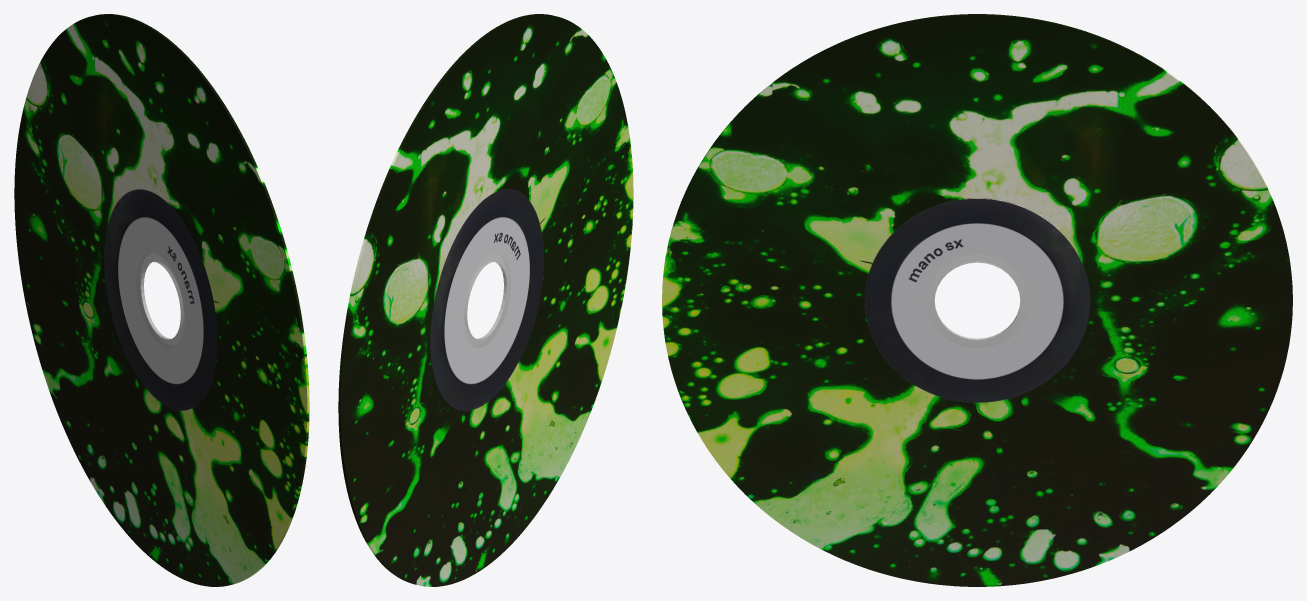
Rendered from CD_Manosx.glb.
3 renders of one model, left to right at view 1: azimuth 30°, elevation 25°; view 2: azimuth 150°, elevation 25°; view 3: azimuth 270°, elevation 25°, orthographic. The views are drawn at different scales.
Visible parts, largest first — view 1: CD; view 2: CD; view 3: CD.
Part boxes in pixels (left/top/right/bottom): CD: left=14, top=14, right=309, bottom=586; CD: left=338, top=14, right=633, bottom=586; CD: left=662, top=14, right=1292, bottom=586.
Bounding box in the file's own units: 0.0111 × 1.87 × 1.87.
Materials: 2 (2 with a texture image).
